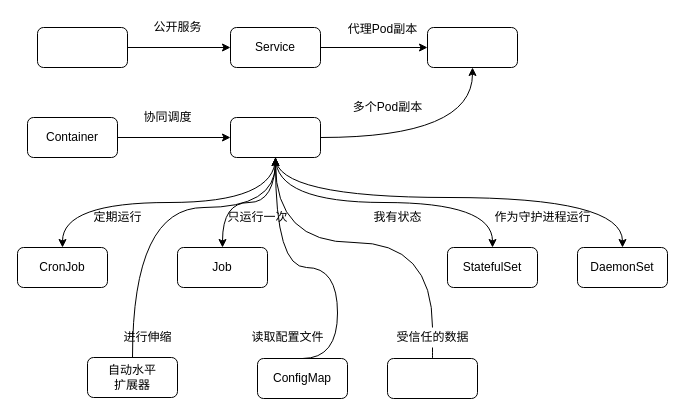
The diagram is 685 pixels wide and 416 high, and some of its shapes have lost their labels. Here are the shapes that lost their labels. From the top down, the centre of each, then its label:
At (x=82, y=47): "Ingress".
At (x=472, y=47): "Deployment".
At (x=275, y=137): "Pod".
At (x=432, y=378): "Secret".
